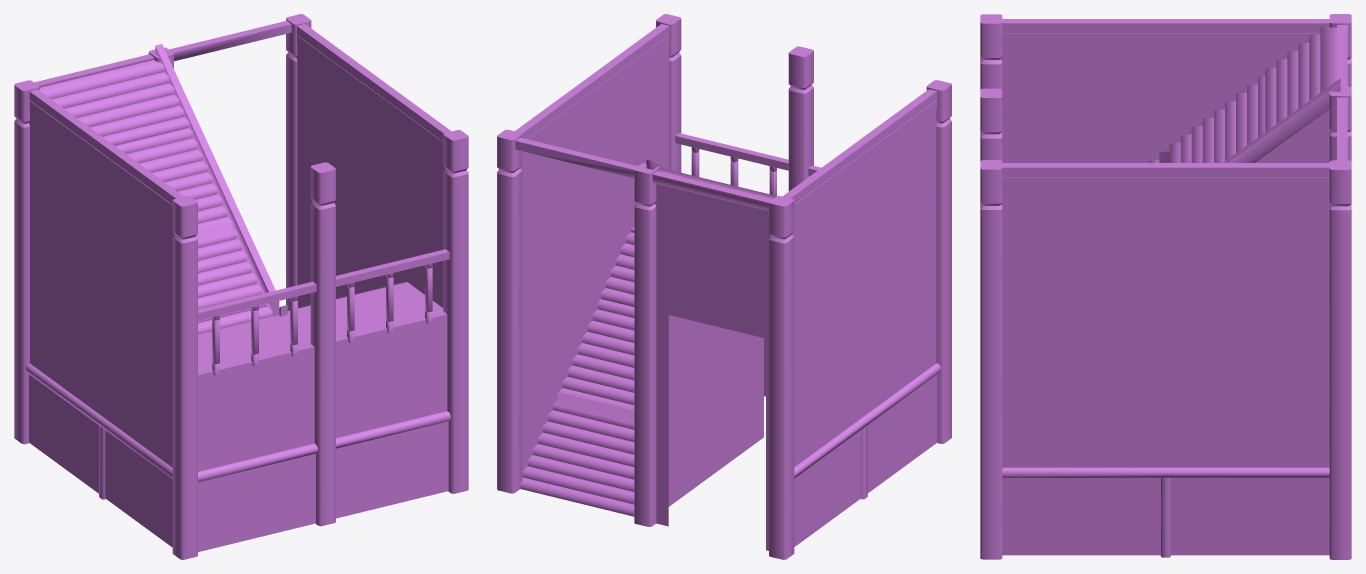
Rendered from BrickHouse_IntStairs_B.fbx.
3 renders of one model, left to right at view 1: azimuth 30°, elevation 25°; view 2: azimuth 150°, elevation 25°; view 3: azimuth 270°, elevation 25°, orthographic. The views are drawn at different scales.
Parts seen in each view (by area): view 1: BrickHouse_IntStairs_A; view 2: BrickHouse_IntStairs_A; view 3: BrickHouse_IntStairs_A.
Part boxes in pixels (x1,y1,x2,y2): BrickHouse_IntStairs_A: (14,14,468,559); BrickHouse_IntStairs_A: (497,14,951,559); BrickHouse_IntStairs_A: (980,14,1351,559).
Size of the model in its own units: 422 by 505 by 425.
